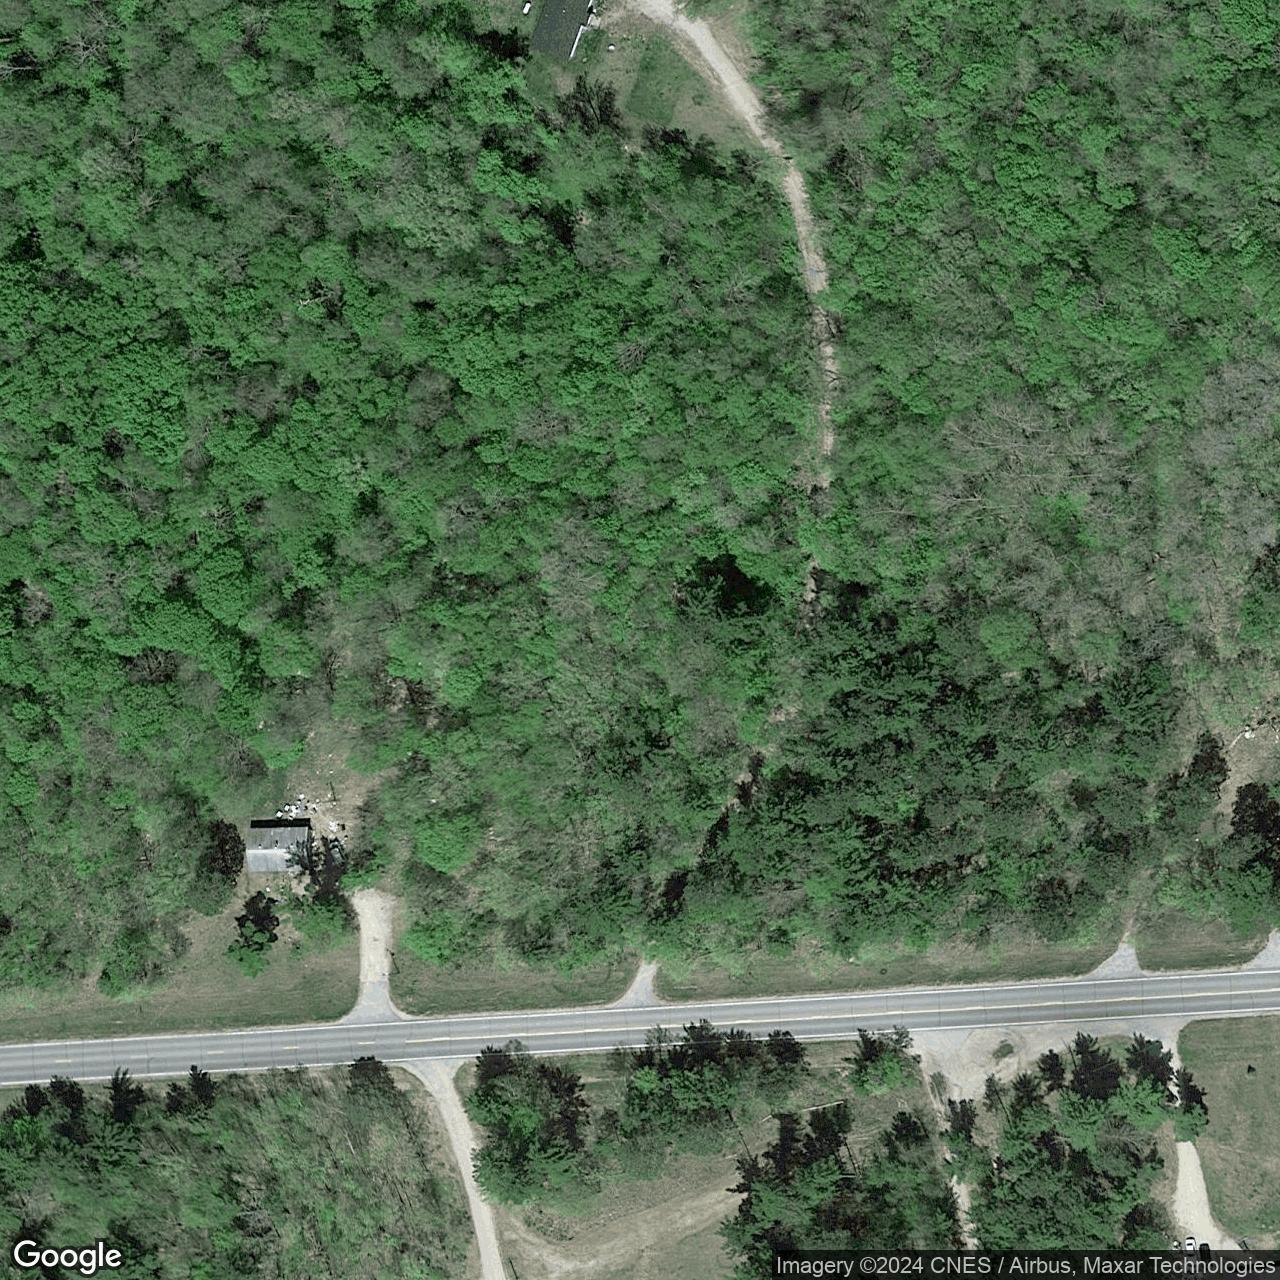House: (529, 0, 593, 63), (245, 826, 309, 873)
Propane: (520, 1, 533, 16)
